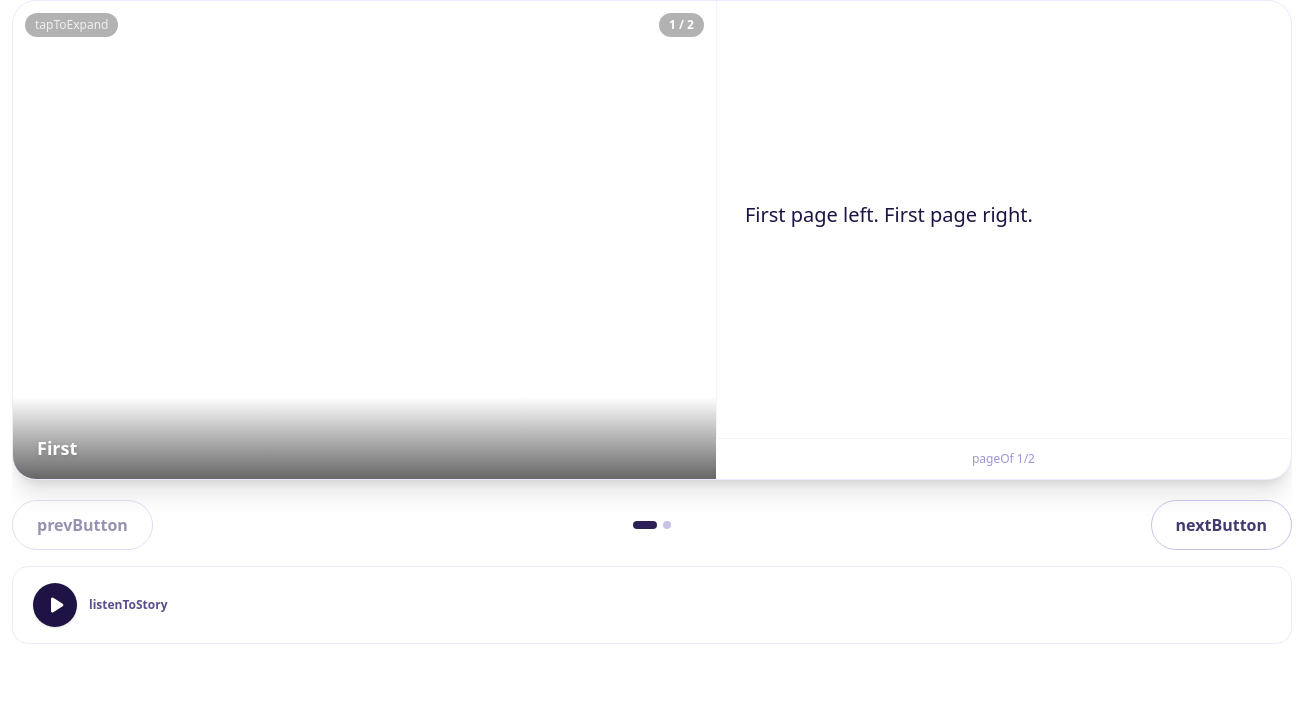
BookReader narration › continues narration when a page finishes and advances
Click the button named "listenToStory" at x=55, y=605, box [33, 583, 77, 627]
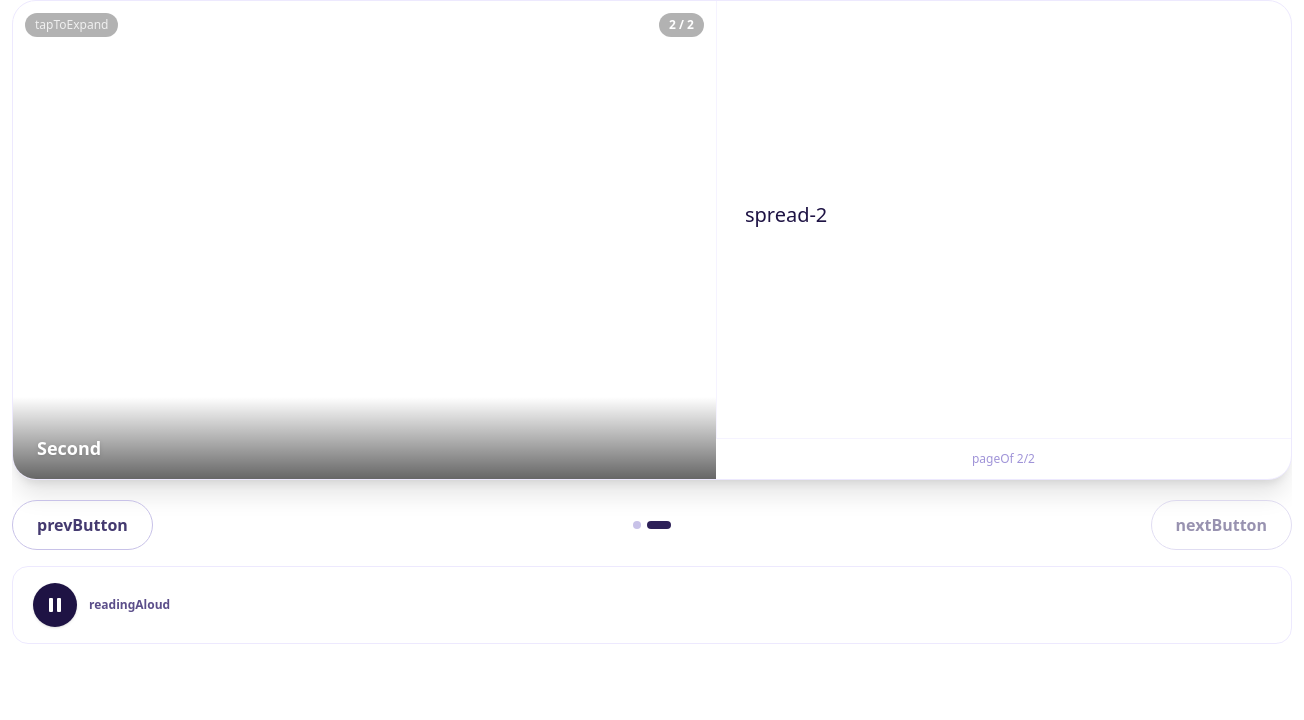
Expected: the text "pageOf 2/2" is shown, [972, 450, 1035, 467]
